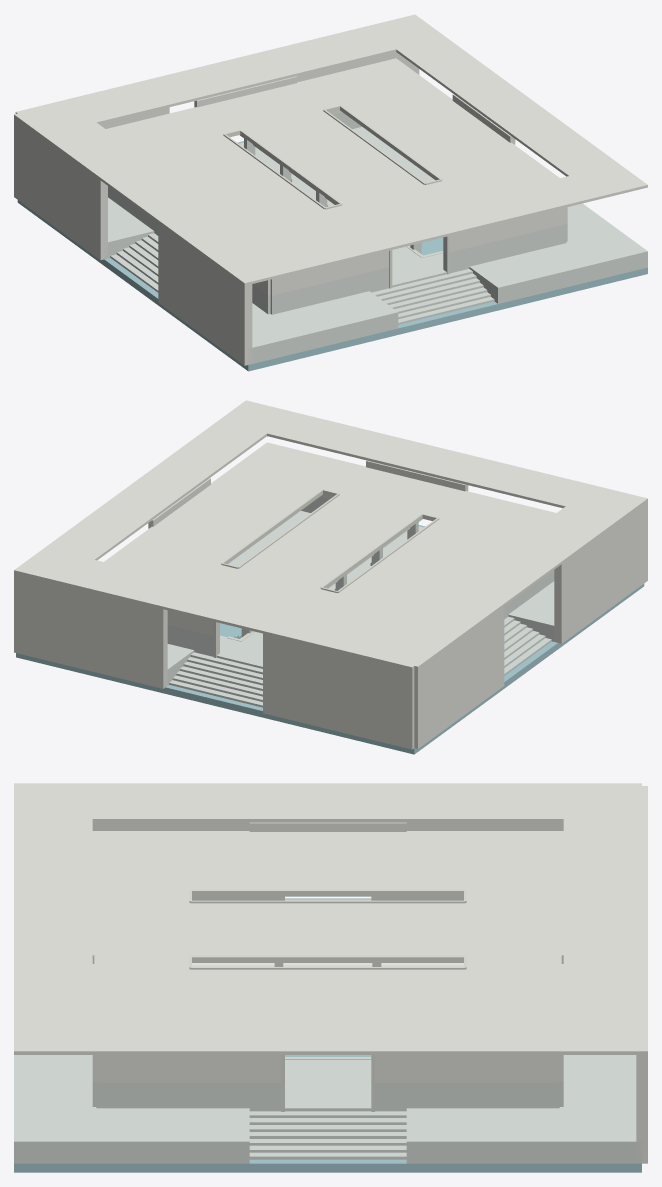
File: vaulted_lanes.glb
3 renders of one model, top to bottom at view 1: azimuth 30°, elevation 25°; view 2: azimuth 150°, elevation 25°; view 3: azimuth 270°, elevation 25°, orthographic. The views are drawn at different scales.
Visible parts, largest first — view 1: IntegratedRoom_art_pass_plaster_oyster, IntegratedRoom_art_pass_tile_pearl, IntegratedRoom_art_pass_tile_blue, IntegratedRoom_art_pass_coping_ivory; view 2: IntegratedRoom_art_pass_plaster_oyster, IntegratedRoom_art_pass_tile_pearl, IntegratedRoom_art_pass_tile_blue, IntegratedRoom_art_pass_coping_ivory; view 3: IntegratedRoom_art_pass_plaster_oyster, IntegratedRoom_art_pass_tile_pearl, IntegratedRoom_art_pass_tile_blue, IntegratedRoom_art_pass_coping_ivory.
Part boxes in pixels (box(x1,y1,x2,y2)): IntegratedRoom_art_pass_plaster_oyster: box(14, 14, 647, 365); IntegratedRoom_art_pass_tile_pearl: box(104, 112, 647, 364); IntegratedRoom_art_pass_tile_blue: box(17, 141, 647, 371); IntegratedRoom_art_pass_coping_ivory: box(223, 105, 449, 288); IntegratedRoom_art_pass_plaster_oyster: box(14, 400, 647, 749); IntegratedRoom_art_pass_tile_pearl: box(165, 496, 554, 707); IntegratedRoom_art_pass_tile_blue: box(16, 525, 644, 754); IntegratedRoom_art_pass_coping_ivory: box(213, 489, 439, 657); IntegratedRoom_art_pass_plaster_oyster: box(14, 783, 647, 1163); IntegratedRoom_art_pass_tile_pearl: box(14, 896, 641, 1163); IntegratedRoom_art_pass_tile_blue: box(14, 898, 641, 1172); IntegratedRoom_art_pass_coping_ivory: box(189, 889, 466, 1111).
Size of what is drawn, in the model's own units: 32.3 by 6.82 by 32.3.
